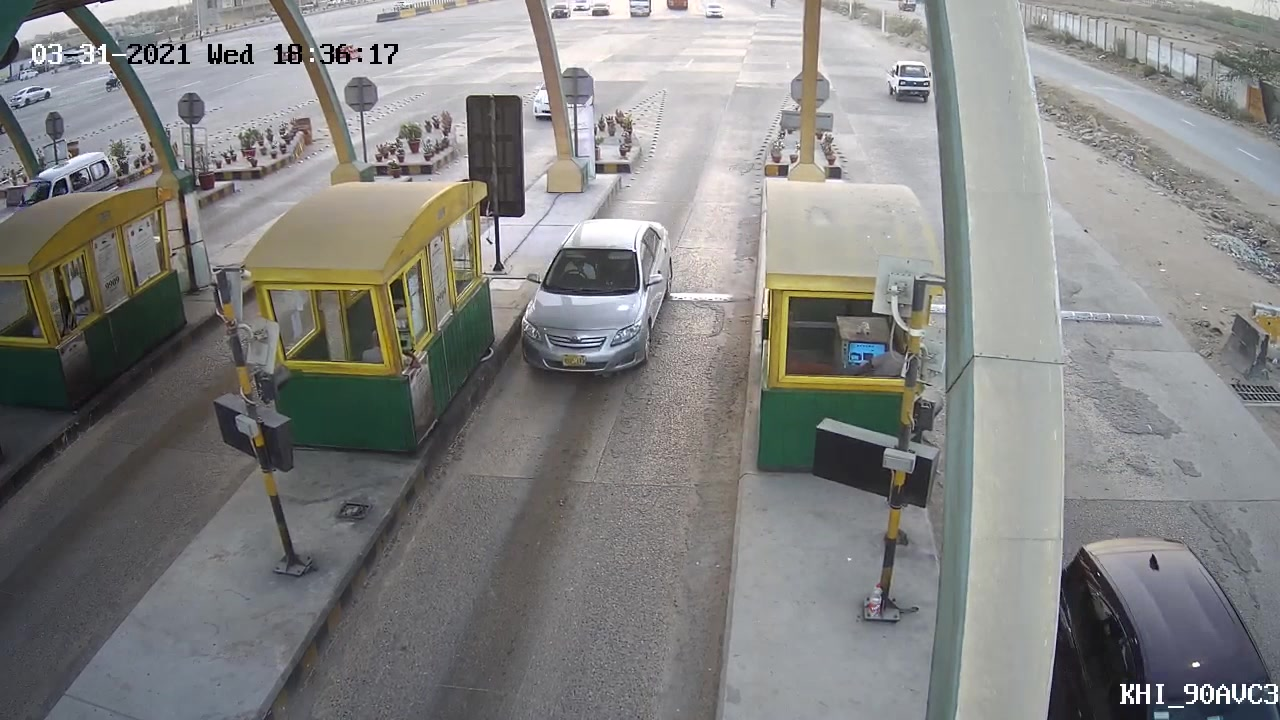F1: (501, 211, 683, 386)
